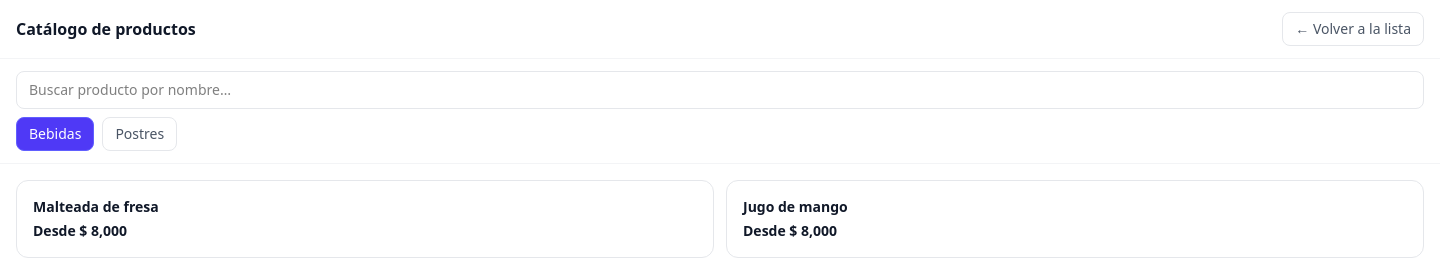
it: PosCatalogDrawerComponent › filtra por nombre en tiempo real
Type "malteada" into the field with placeholder "Buscar producto por nombre…".
click(720, 90); type("malteada")  # box x1=16 y1=71 x2=1424 y2=109
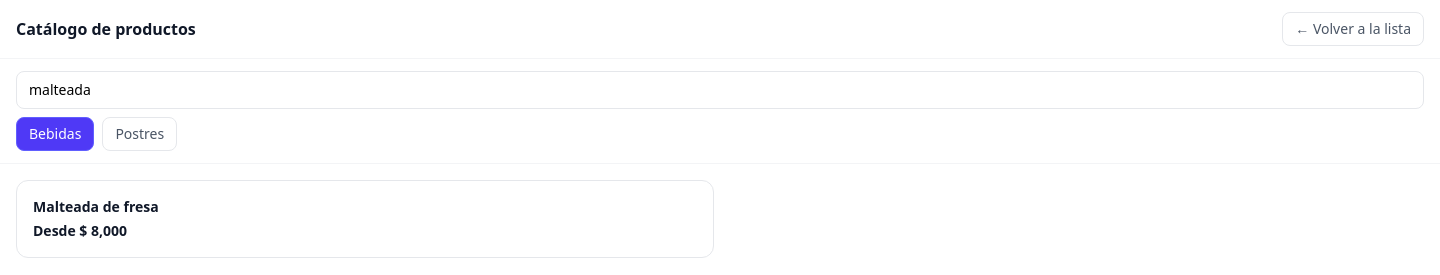
Check: the text "Malteada de fresa" is shown, box x1=33 y1=197 x2=159 y2=216
Check: the text "Jugo de mango" is gone
